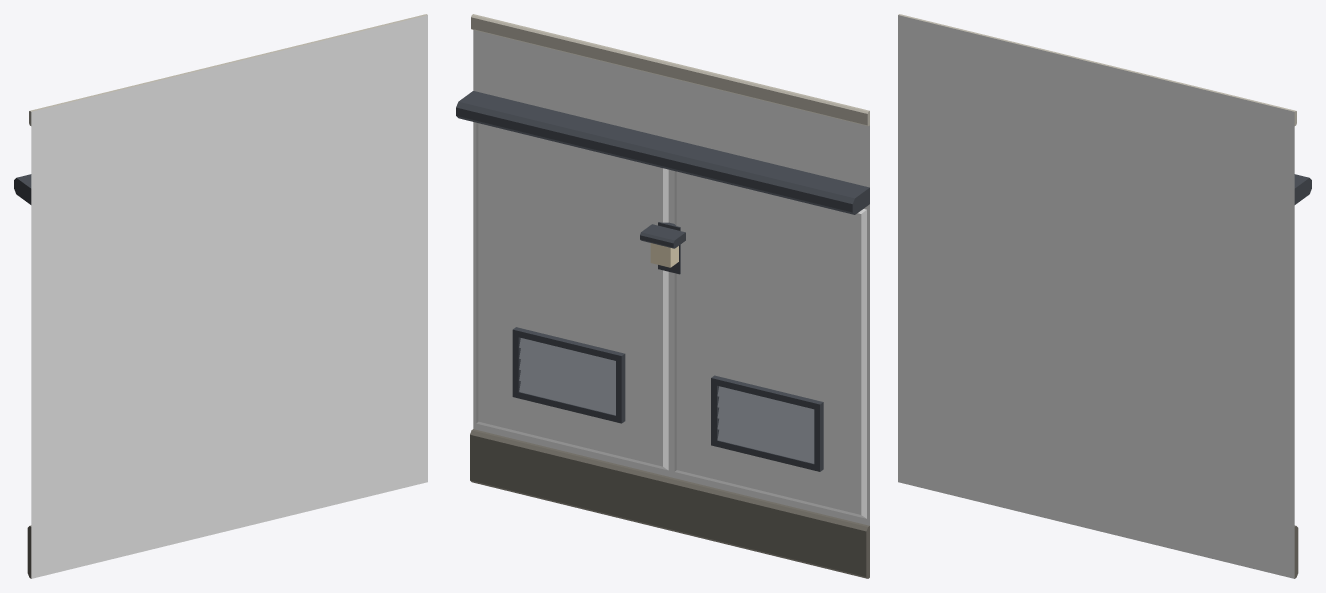
The model's file is off_ground_solid.glb.
The picture shows the model from 3 angles, left to right: view 1: azimuth 30°, elevation 25°; view 2: azimuth 150°, elevation 25°; view 3: azimuth 330°, elevation 25°; orthographic projection.
Visible parts, largest first — view 1: off_ground_solid__mesh; view 2: off_ground_solid__mesh; view 3: off_ground_solid__mesh.
Part boxes in pixels (box(x1,y1,x2,y2)): off_ground_solid__mesh: box(14, 14, 427, 578); off_ground_solid__mesh: box(456, 14, 869, 578); off_ground_solid__mesh: box(898, 14, 1311, 578).
Size of what is drawn, in the model's own units: 4 by 4.5 by 0.3.
1 material, 1 textured.
